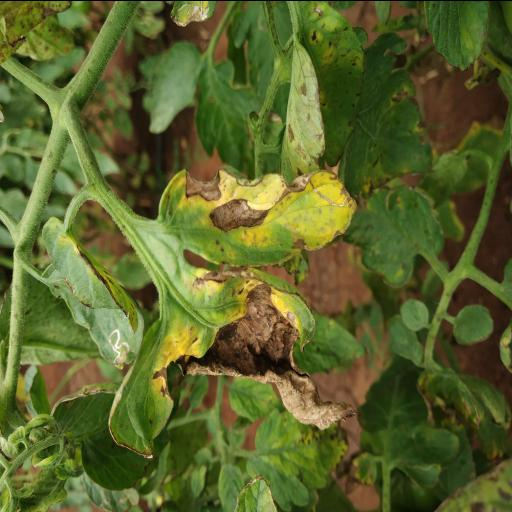Early Blight: (110, 268, 361, 460), (158, 165, 360, 266)
